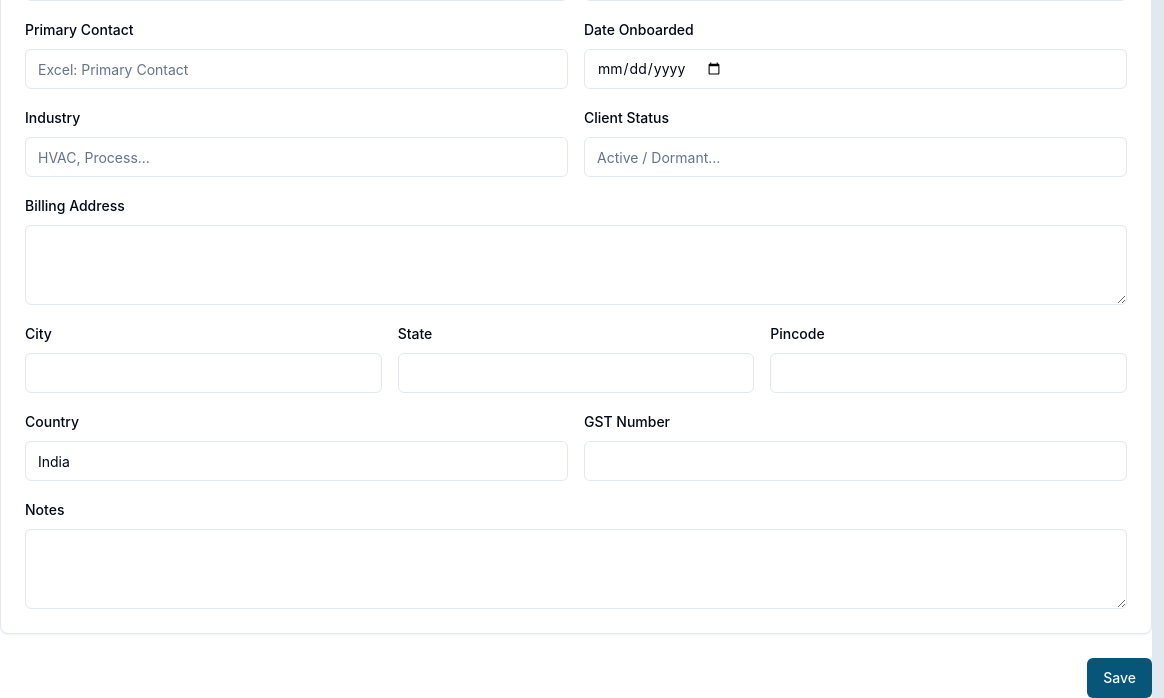
Test: ClientForm › shows validation errors for empty required fields
(page scrolled)
Click the button "Save" at (1120, 678), box x1=1087 y1=658 x2=1152 y2=697
(page scrolled)
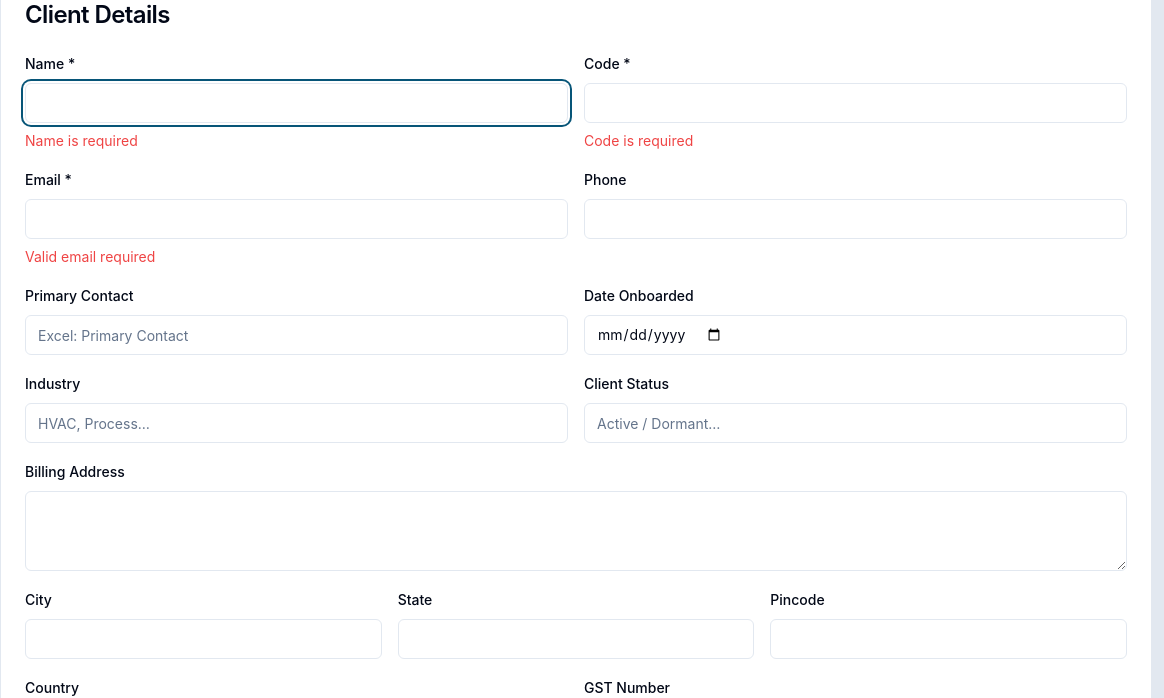
Result: the text "Name is required" is shown at x1=25 y1=132 x2=138 y2=149
Result: the text "Code is required" is shown at x1=584 y1=132 x2=693 y2=149
Result: the text "Valid email required" is shown at x1=25 y1=248 x2=155 y2=265
